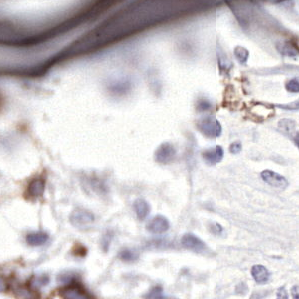Lymphocyte: (16, 169, 52, 205)
